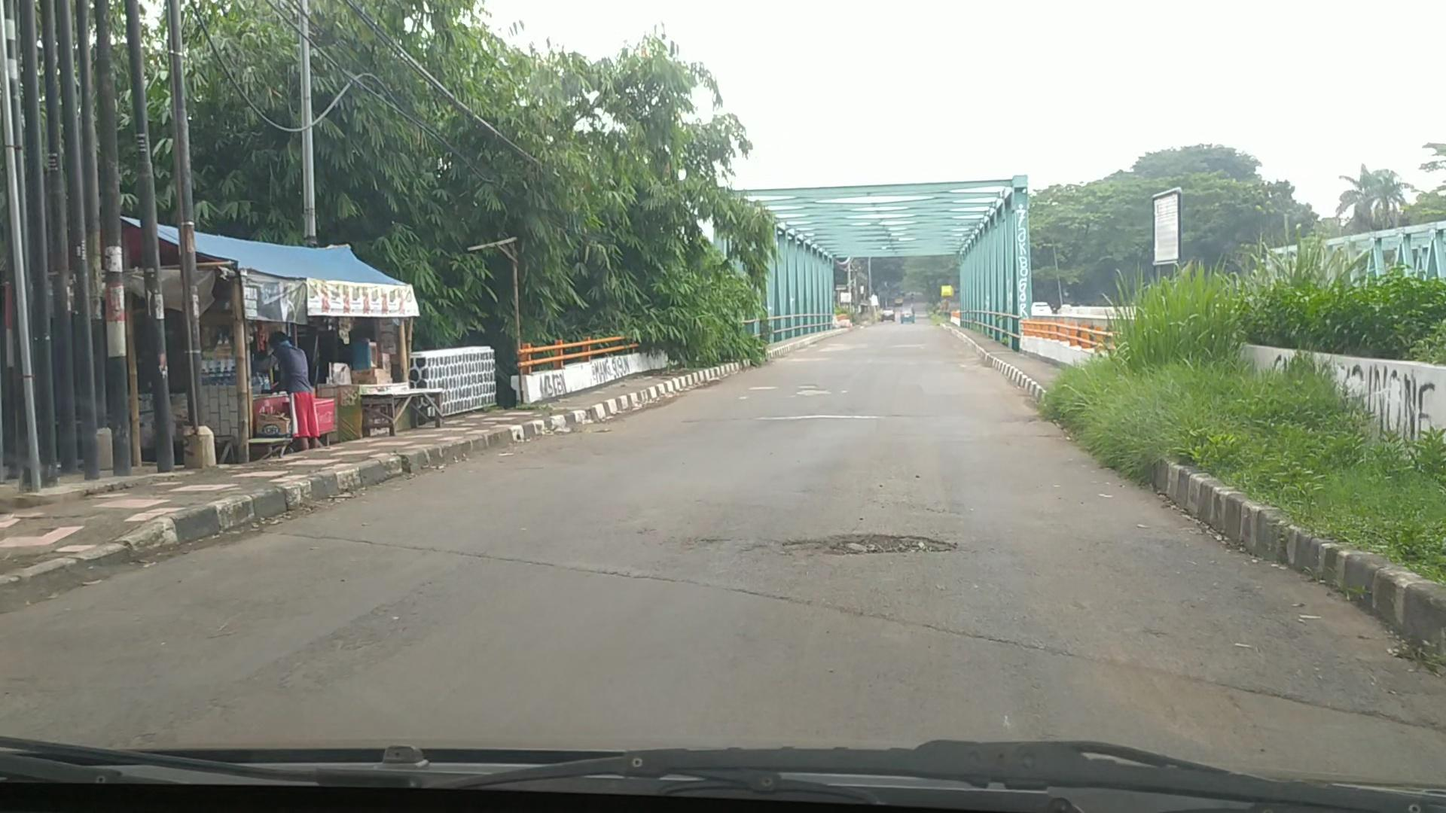pothole: (779, 532, 962, 557)
